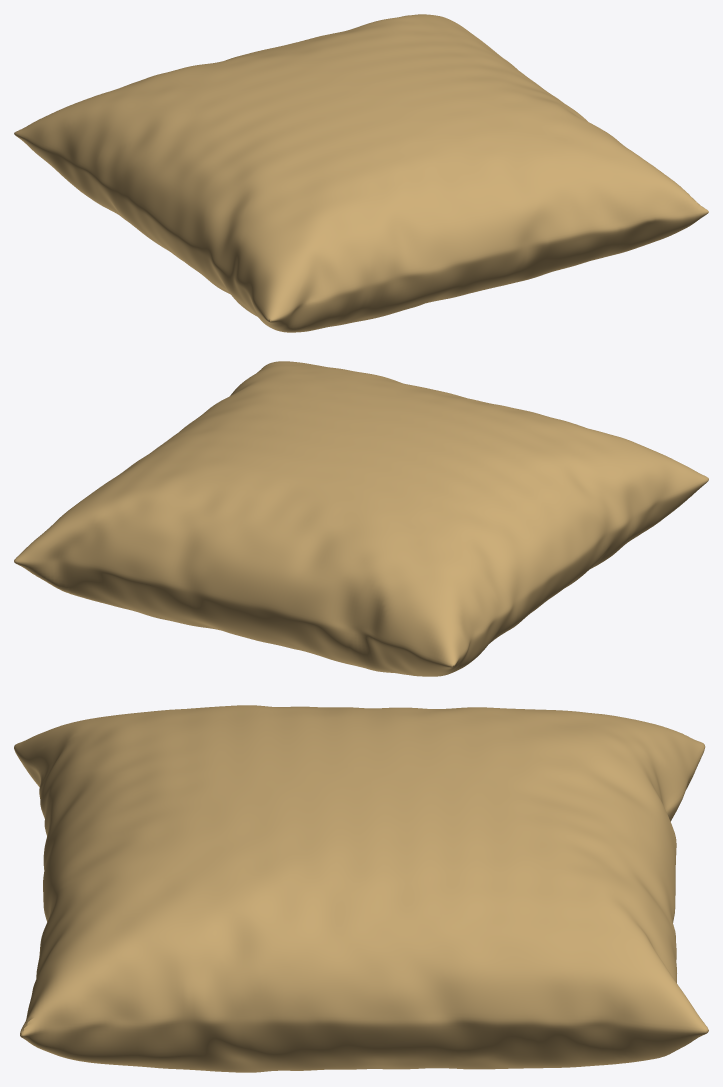
File: cushion_Bright.fbx
The picture shows the model from 3 angles, top to bottom: view 1: azimuth 30°, elevation 25°; view 2: azimuth 150°, elevation 25°; view 3: azimuth 270°, elevation 25°; orthographic projection. The views are drawn at different scales.
Visible parts, largest first — view 1: 立方体; view 2: 立方体; view 3: 立方体.
Part boxes in pixels (x1=…): 立方体: x1=14, y1=14, x2=708, y2=332; 立方体: x1=14, y1=361, x2=708, y2=676; 立方体: x1=14, y1=705, x2=708, y2=1072.
Bounding box in the file's own units: 190 × 68.05 × 192.
